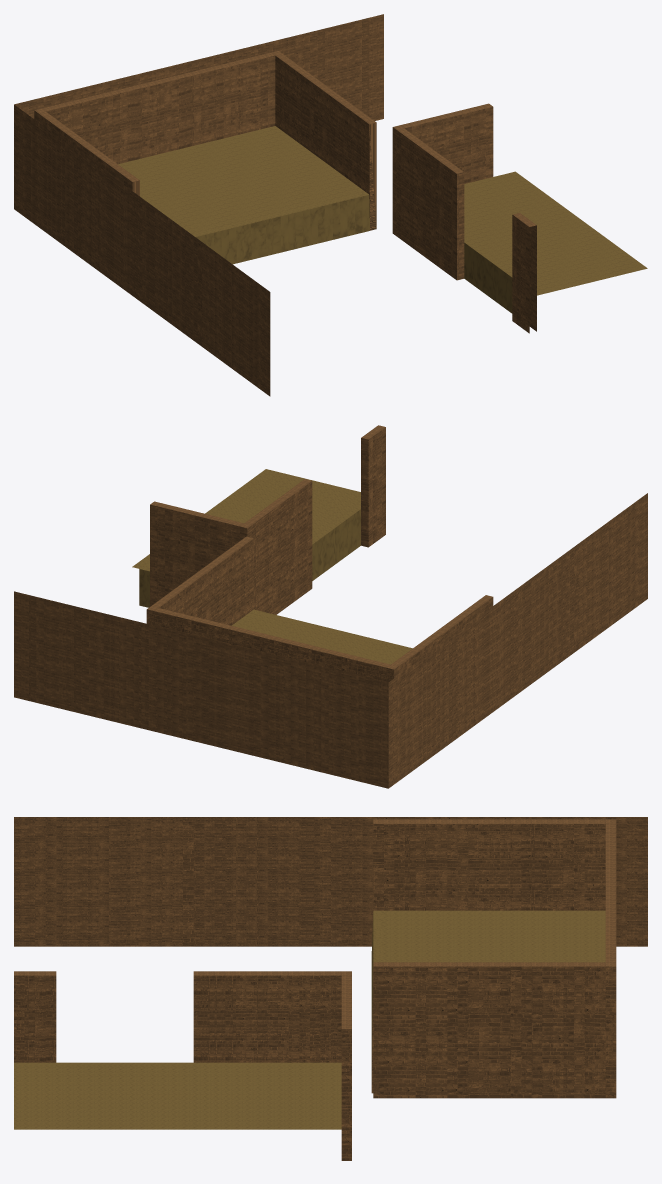
The picture shows the model from 3 angles, top to bottom: view 1: azimuth 30°, elevation 25°; view 2: azimuth 150°, elevation 25°; view 3: azimuth 270°, elevation 25°; orthographic projection. The views are drawn at different scales.
Parts seen in each view (by area): view 1: map; view 2: map; view 3: map.
Boxes of the visible parts, left/top/right/bottom form: map: left=14, top=14, right=647, bottom=396; map: left=14, top=425, right=647, bottom=788; map: left=14, top=817, right=647, bottom=1160.
Size of the model in its own units: 51.39 by 13.86 by 60.45.
Materials: 2 (2 with a texture image).
